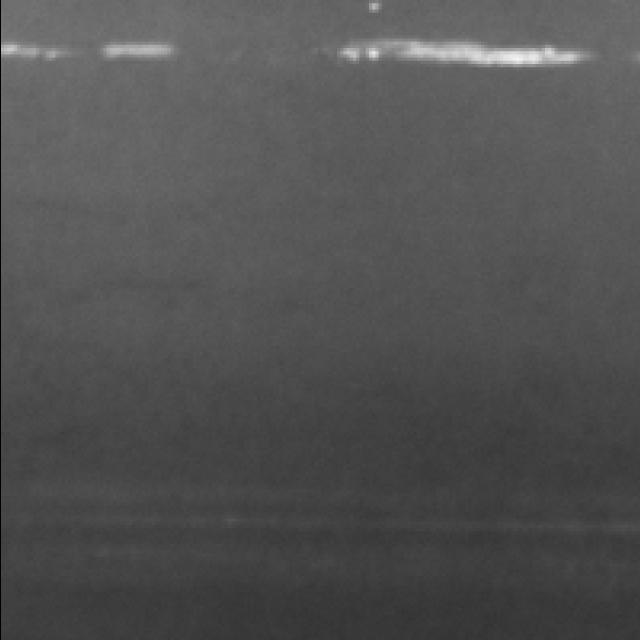scratches: (334, 40, 600, 68), (0, 38, 71, 76), (90, 40, 180, 64)
